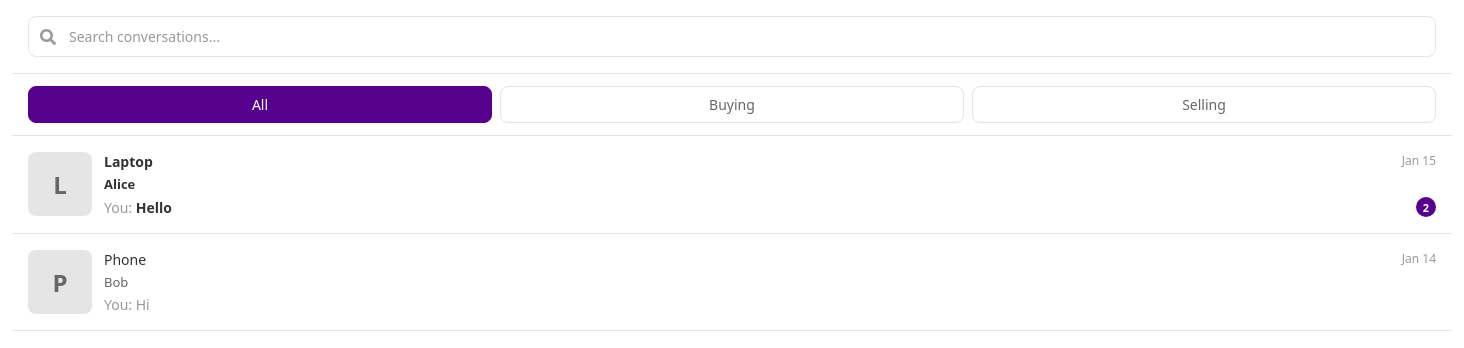
ConversationList › Filter functionality › filters by buying type
Click the button "Buying".
click(732, 104)  # box top-left (500, 86), bottom-right (964, 123)
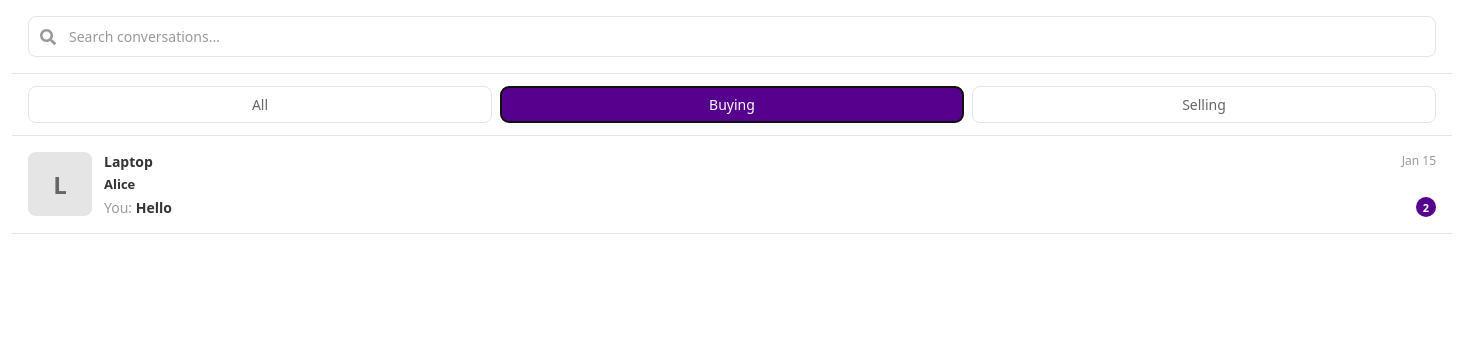
Expected: the heading "Laptop" is shown, top-left (104, 152), bottom-right (153, 171)
Expected: the button "Phone" is gone
